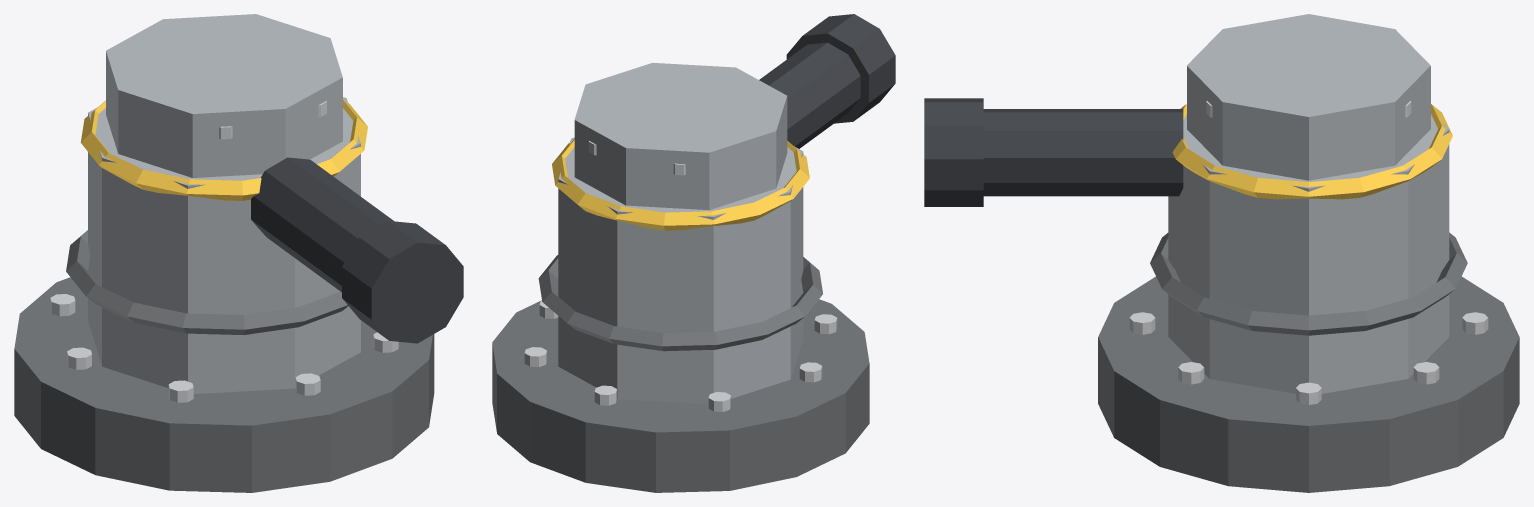
The model's file is TD_HeavyTower_T2.fbx.
3 views of the same model, side by side, from view 1: azimuth 30°, elevation 25°; view 2: azimuth 150°, elevation 25°; view 3: azimuth 270°, elevation 25° (orthographic). The views are drawn at different scales.
Visible parts, largest first — view 1: TD_HeavyTower_T2_Base, TD_HeavyTower_T2_Body, TD_HeavyTower_T2_HeavyUpperBody, TD_HeavyTower_T2_MuzzlePiece, TD_HeavyTower_T2_MainBarrel, TD_HeavyTower_T2_LowerArmorRing, TD_HeavyTower_T2_UpperGoldArmorRing, TD_HeavyTower_T2_BaseBolt_6, TD_HeavyTower_T2_BaseBolt_7, TD_HeavyTower_T2_BaseBolt_4, TD_HeavyTower_T2_BaseBolt_5; view 2: TD_HeavyTower_T2_Base, TD_HeavyTower_T2_Body, TD_HeavyTower_T2_HeavyUpperBody, TD_HeavyTower_T2_MainBarrel, TD_HeavyTower_T2_LowerArmorRing, TD_HeavyTower_T2_UpperGoldArmorRing, TD_HeavyTower_T2_MuzzlePiece; view 3: TD_HeavyTower_T2_Body, TD_HeavyTower_T2_Base, TD_HeavyTower_T2_HeavyUpperBody, TD_HeavyTower_T2_MainBarrel, TD_HeavyTower_T2_LowerArmorRing, TD_HeavyTower_T2_MuzzlePiece, TD_HeavyTower_T2_UpperGoldArmorRing.
Boxes of the visible parts, x1,y1,x2,y2 form: TD_HeavyTower_T2_Base: [14, 277, 434, 492]; TD_HeavyTower_T2_Body: [88, 97, 360, 393]; TD_HeavyTower_T2_HeavyUpperBody: [106, 14, 342, 177]; TD_HeavyTower_T2_MuzzlePiece: [342, 221, 463, 343]; TD_HeavyTower_T2_MainBarrel: [251, 157, 393, 292]; TD_HeavyTower_T2_LowerArmorRing: [66, 230, 348, 334]; TD_HeavyTower_T2_UpperGoldArmorRing: [80, 99, 367, 200]; TD_HeavyTower_T2_BaseBolt_6: [168, 380, 193, 402]; TD_HeavyTower_T2_BaseBolt_7: [295, 373, 320, 395]; TD_HeavyTower_T2_BaseBolt_4: [50, 294, 75, 316]; TD_HeavyTower_T2_BaseBolt_5: [67, 347, 91, 369]; TD_HeavyTower_T2_Base: [492, 299, 869, 492]; TD_HeavyTower_T2_Body: [558, 137, 803, 404]; TD_HeavyTower_T2_HeavyUpperBody: [574, 62, 787, 210]; TD_HeavyTower_T2_MainBarrel: [759, 42, 860, 148]; TD_HeavyTower_T2_LowerArmorRing: [538, 255, 822, 351]; TD_HeavyTower_T2_UpperGoldArmorRing: [552, 139, 809, 230]; TD_HeavyTower_T2_MuzzlePiece: [786, 14, 895, 123]; TD_HeavyTower_T2_Body: [1168, 114, 1449, 393]; TD_HeavyTower_T2_Base: [1098, 276, 1519, 492]; TD_HeavyTower_T2_HeavyUpperBody: [1187, 14, 1430, 180]; TD_HeavyTower_T2_MainBarrel: [983, 109, 1183, 196]; TD_HeavyTower_T2_LowerArmorRing: [1150, 232, 1467, 335]; TD_HeavyTower_T2_MuzzlePiece: [924, 98, 983, 206]; TD_HeavyTower_T2_UpperGoldArmorRing: [1172, 104, 1452, 199].
Bounding box in the file's own units: 1.14 × 1.01 × 1.61.
